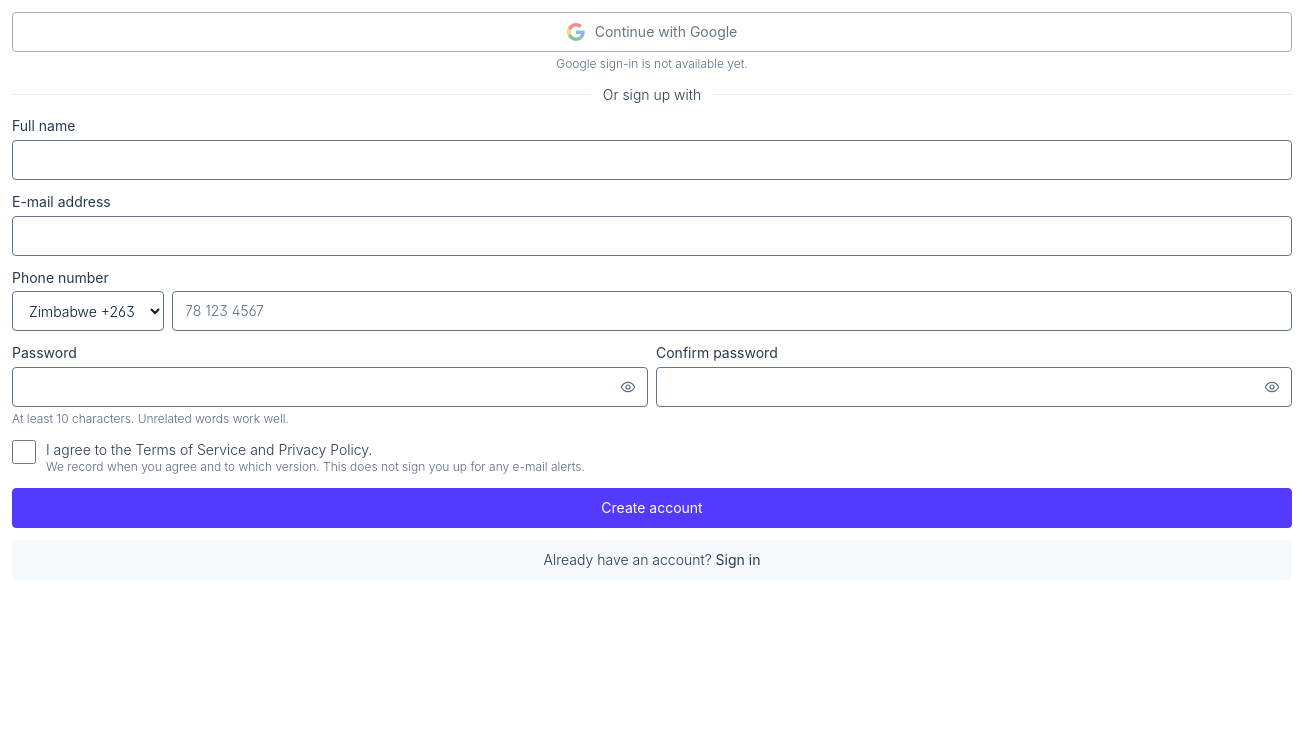
Test: RegisterForm › sends nothing while the passwords differ, the terms box is empty or the number is missing
In the field labelled "Full name": (652, 160) [12,140,1292,180], type "Tendai Moyo"
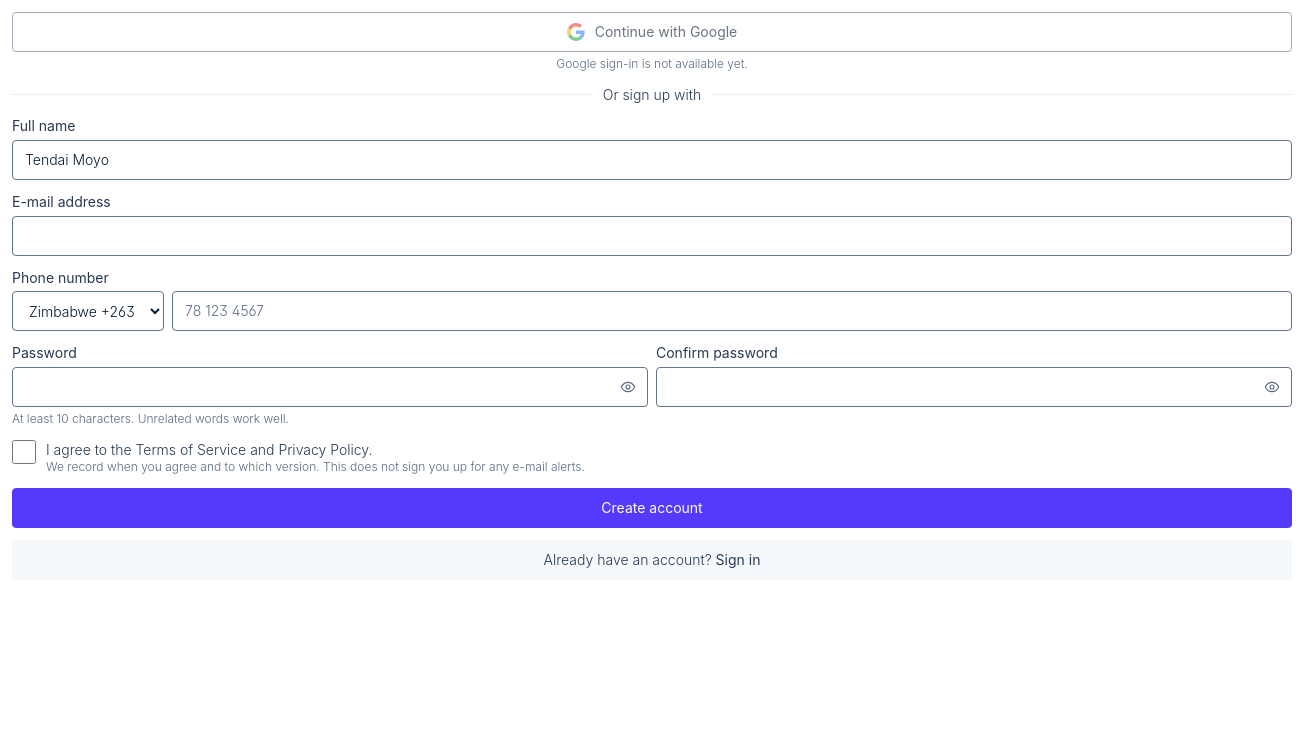
In the field labelled "E-mail address": (652, 236) [12,216,1292,256], type "taken@example.org"
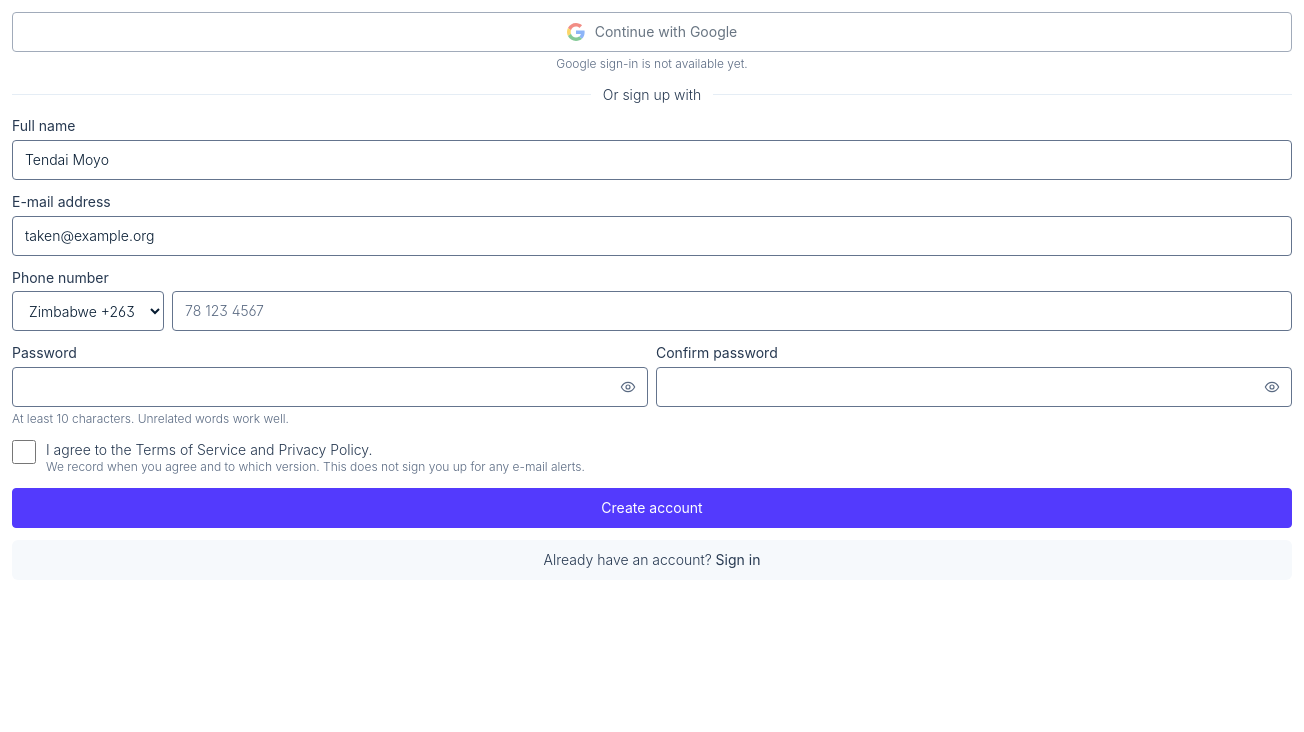
In the password field labelled "Password": (330, 387) [12,367,648,407], type "a long enough passphrase"
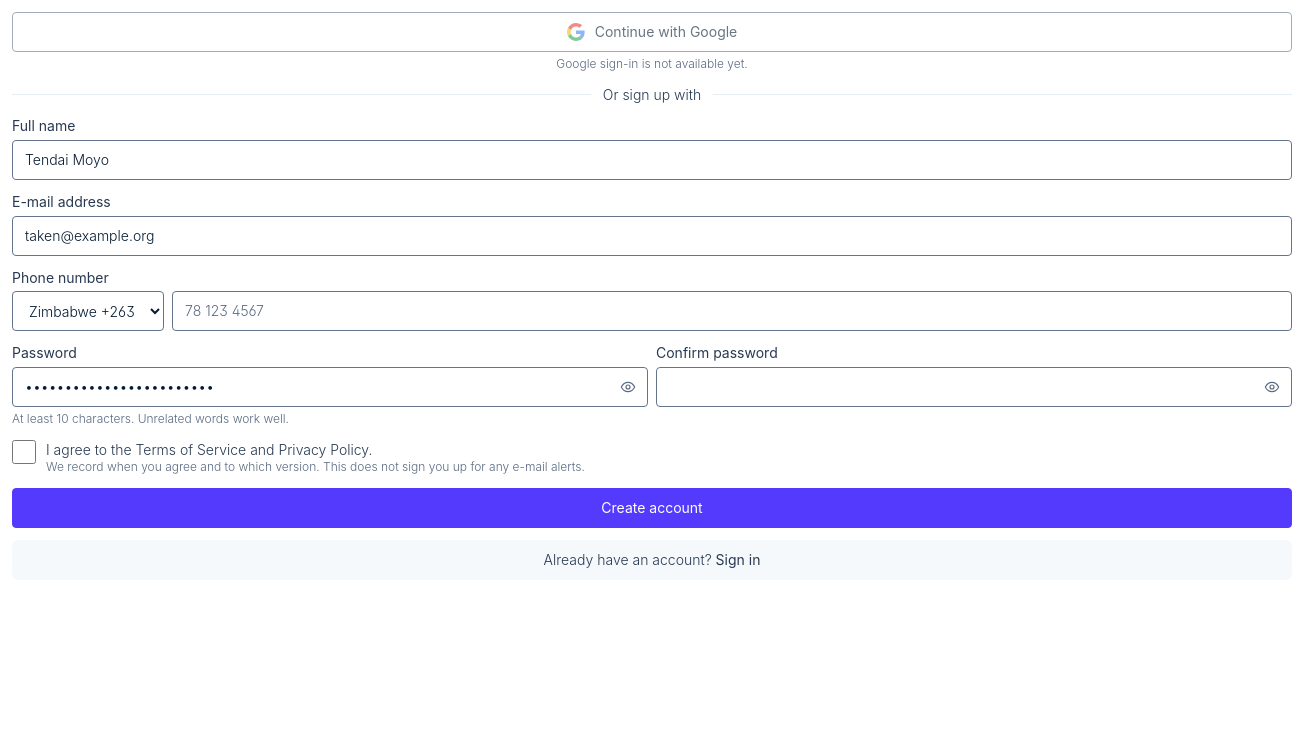
In the password field labelled "Confirm password": (974, 387) [656,367,1292,407], type "something else entirely"
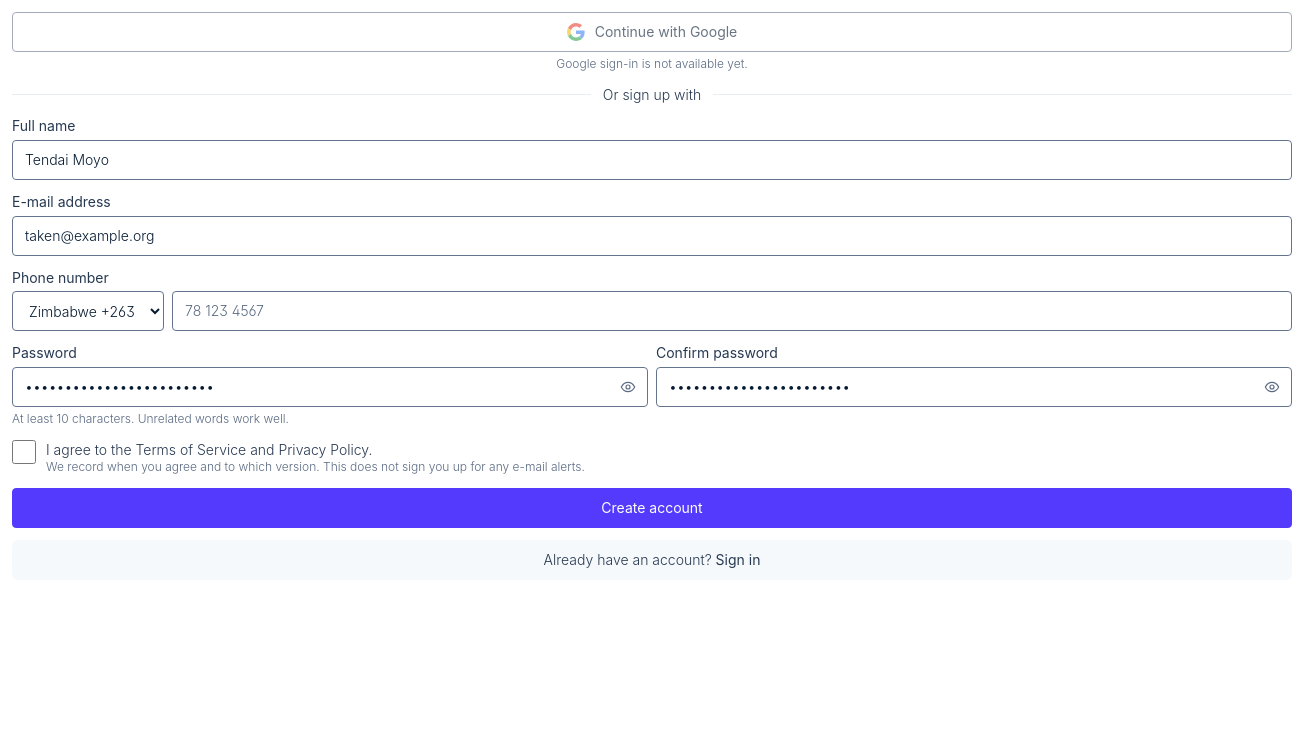
Click the button "Create account": (652, 508) [12,488,1292,528]
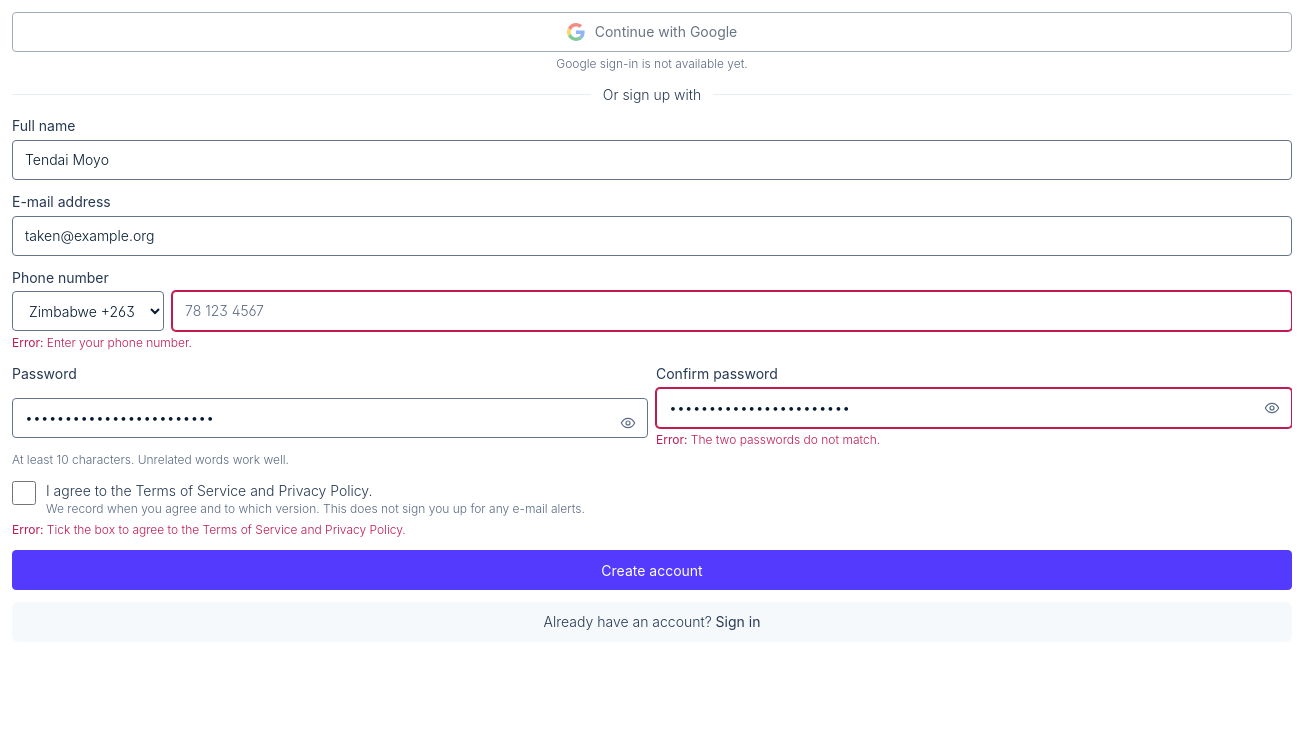
Expected: the text "The two passwords do not match." is shown, [691,432,880,447]
Expected: the text "Error: Tick the box to agree to the Terms of Service and Privacy Policy." is shown, [12,522,406,536]
Expected: the text "Enter your phone number." is shown, [47,335,192,350]
